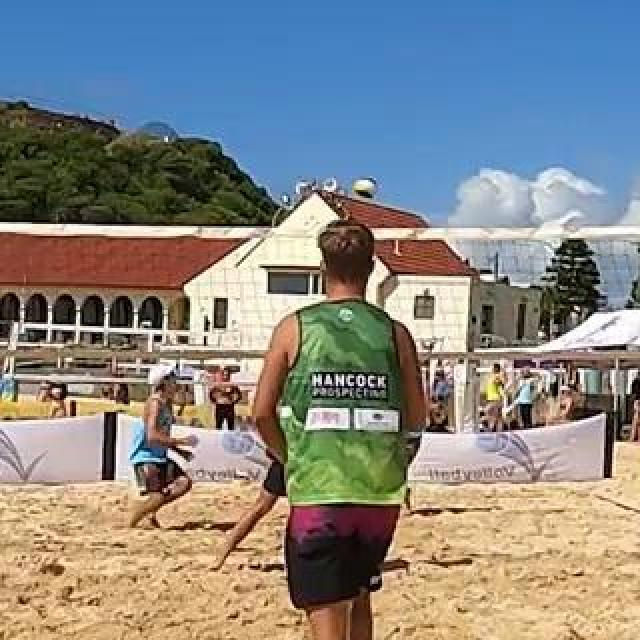volleyball: (353, 176, 379, 198)
